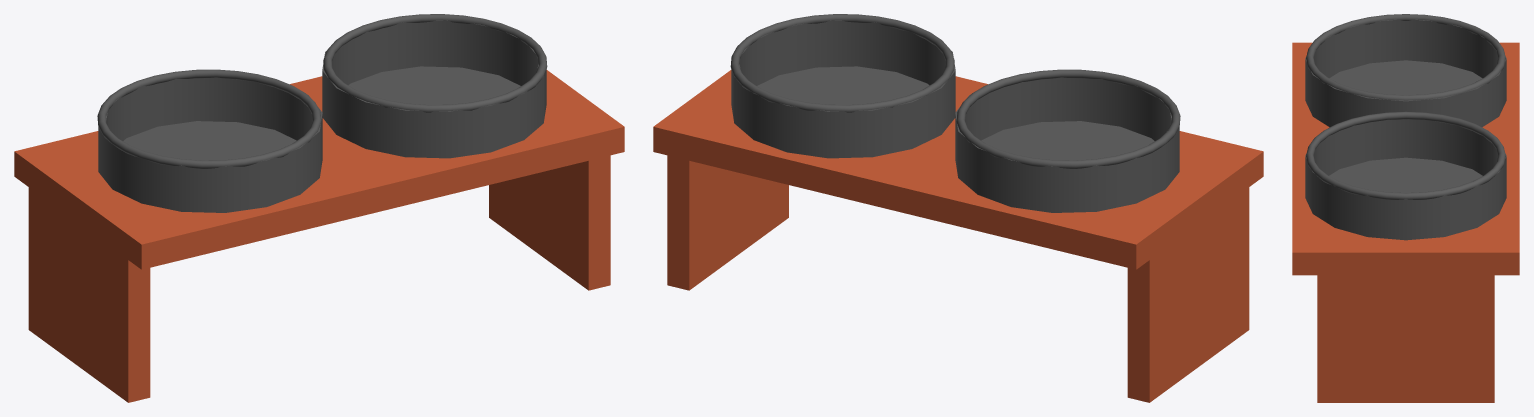
File: catbowl.fbx
The picture shows the model from 3 angles, left to right: view 1: azimuth 30°, elevation 25°; view 2: azimuth 150°, elevation 25°; view 3: azimuth 270°, elevation 25°; orthographic projection. The views are drawn at different scales.
Parts seen in each view (by area): view 1: Connect_2; view 2: Connect_2; view 3: Connect_2.
Part boxes in pixels (<box>): Connect_2: <box>14,14,624,402</box>; Connect_2: <box>653,14,1263,402</box>; Connect_2: <box>1292,14,1519,402</box>.
Bounding box in the file's own units: 296 × 129 × 135.
